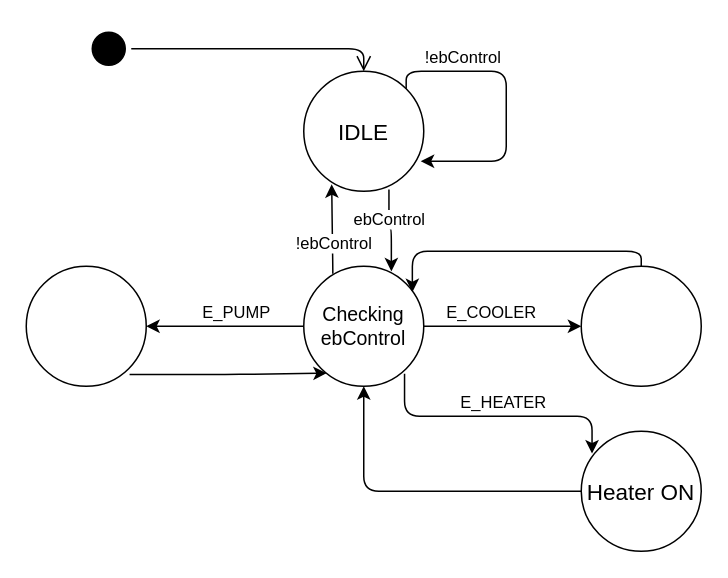
Image size: 728x578. Some labels were removed from this diagram. Here are the shapes that lost their labels. From the top down, the centre of each, then its label:
At point (85, 325): "Pump ON".
At point (640, 325): "Cooler ON".
